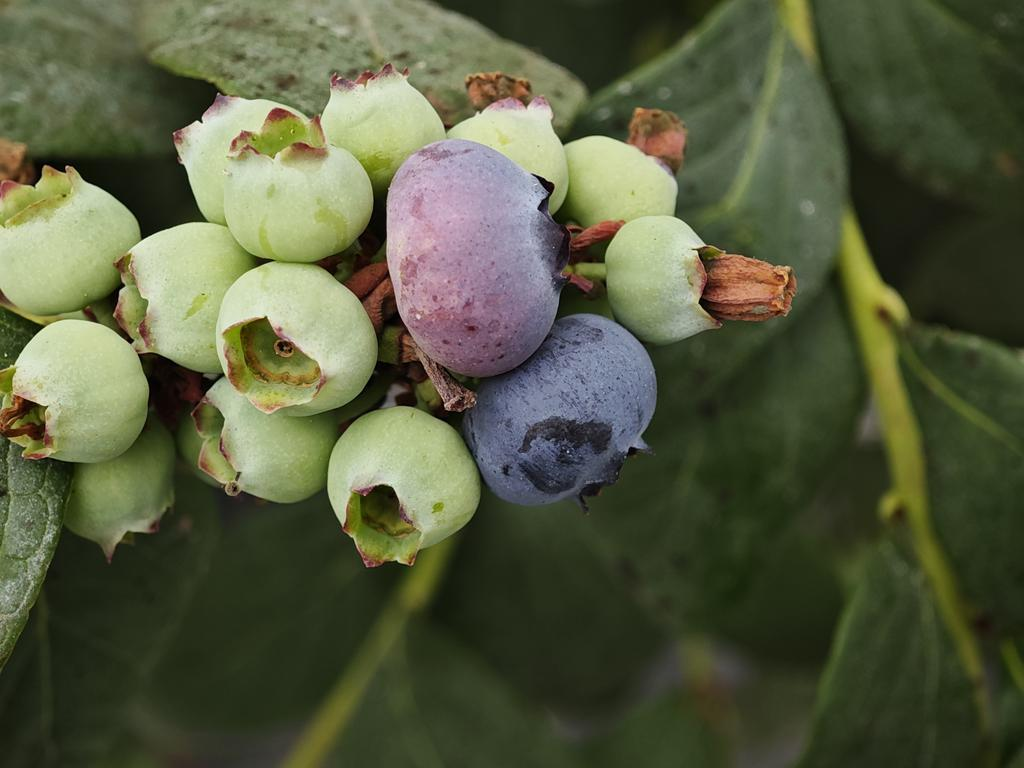Semi-RipeBlueBerry: (387, 146, 564, 379)
UnripeBlueBerry: (214, 262, 377, 413), (331, 410, 480, 564), (229, 116, 377, 260), (6, 317, 148, 464)
